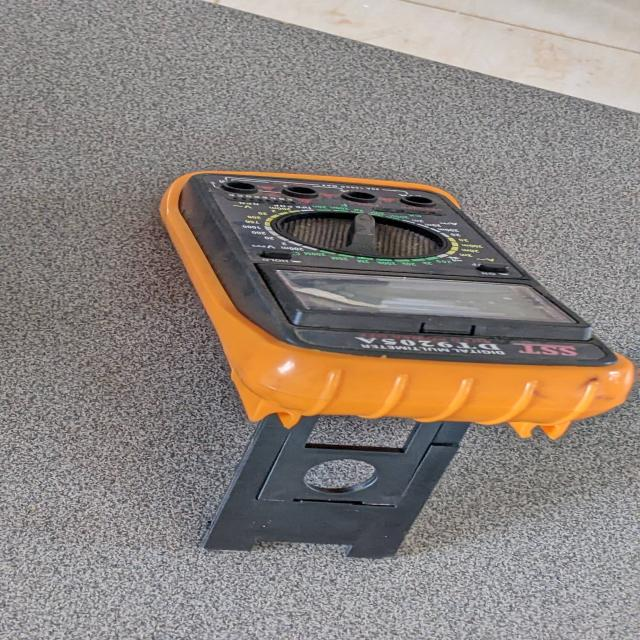Digital Multimeter: (111, 164, 637, 464)
